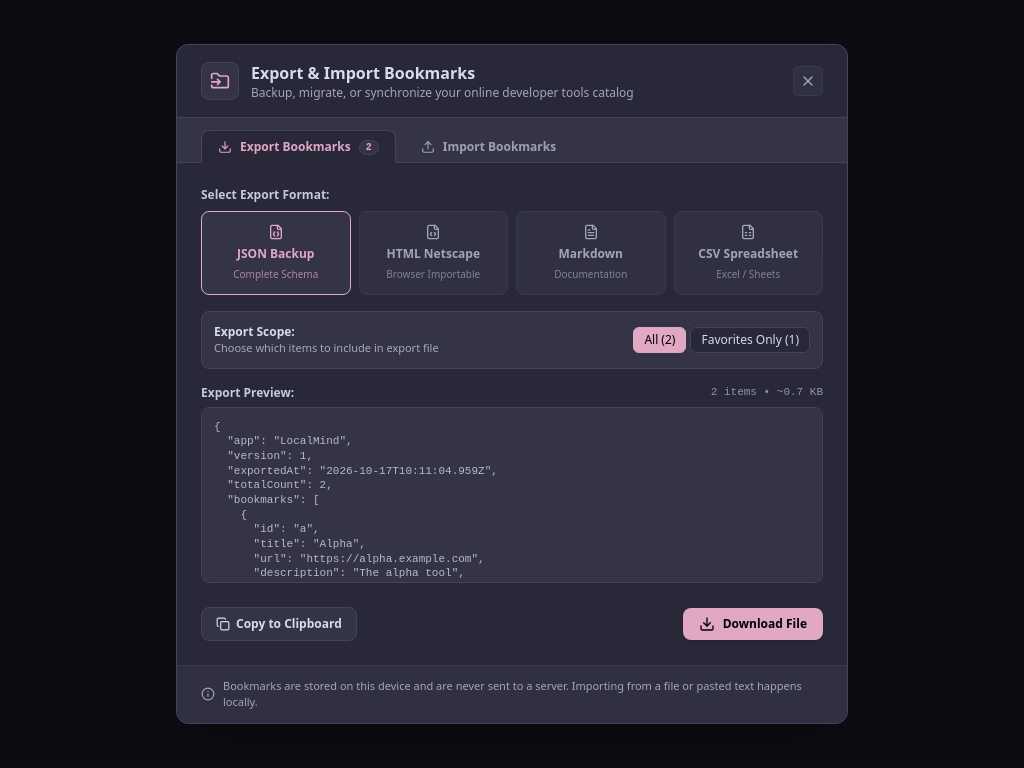
Scenario: export tab › says Copied only when the copy worked
Click the button "Copy to Clipboard": click(279, 624) [201,607,357,641]
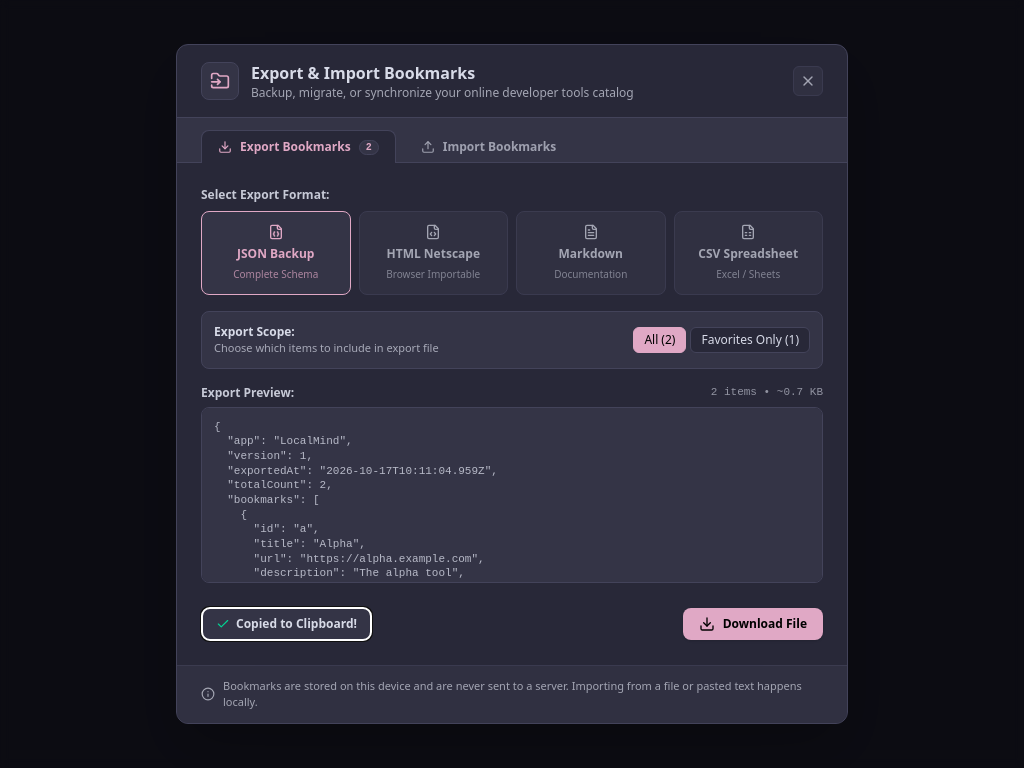
Result: the text "Copied to Clipboard!" is shown at [236,616,357,632]
